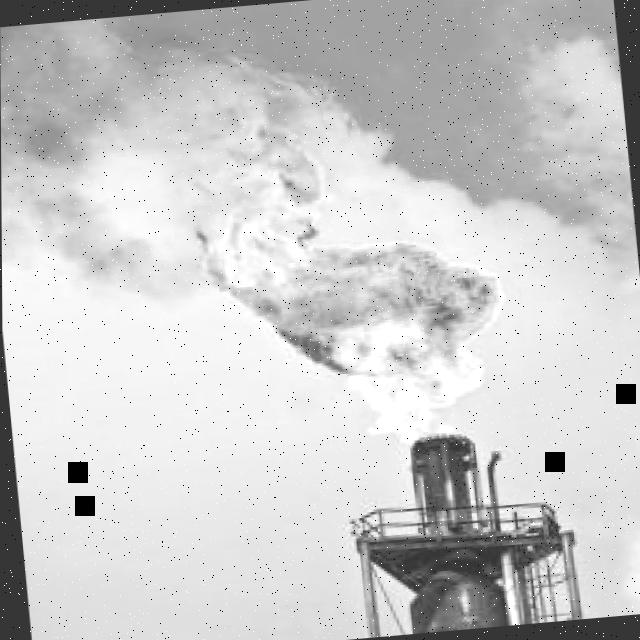fire: (200, 121, 501, 438)
smoke: (0, 18, 289, 305)
